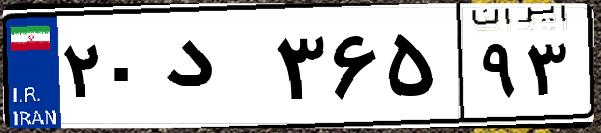0: (110, 28, 158, 98)
2: (57, 26, 110, 100)
3: (270, 28, 330, 110), (525, 38, 570, 115)
5: (385, 28, 445, 110)
6: (330, 28, 385, 110)
9: (475, 38, 525, 113)
د: (158, 20, 270, 120)
